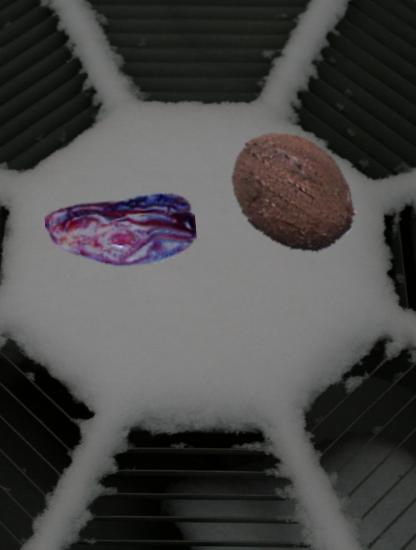Cocos: (223, 122, 363, 262)
Dates: (46, 157, 196, 307)
